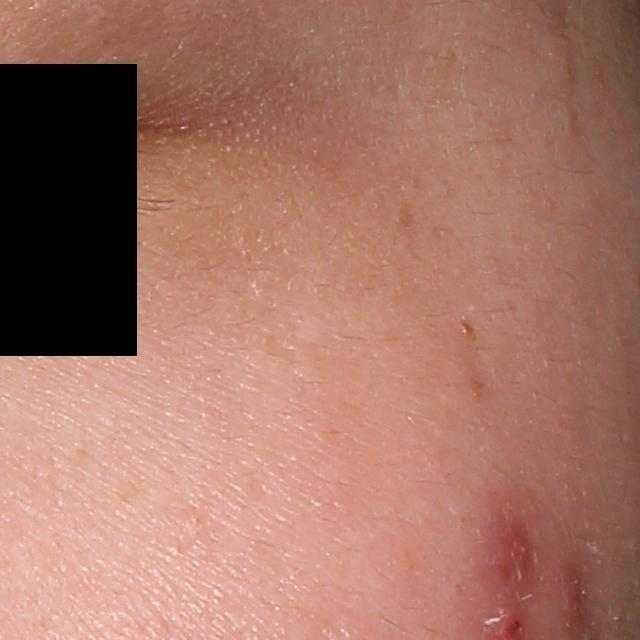papule: (554, 555, 591, 632), (483, 525, 533, 580)
